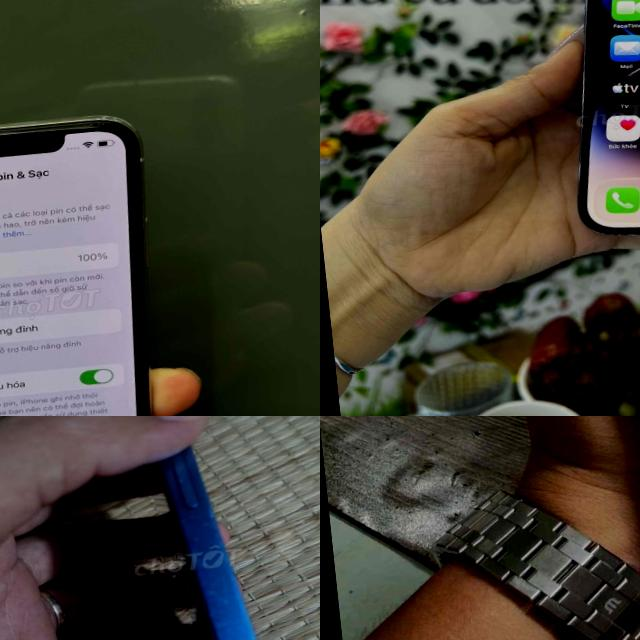gen_12_13: (92, 416, 320, 640)
gen_14: (535, 0, 640, 267)
gen_15: (447, 416, 640, 608)
gen_x_xs: (0, 100, 188, 416)
scratch: (169, 511, 298, 640), (69, 102, 137, 140), (136, 303, 162, 329), (134, 218, 152, 243)
